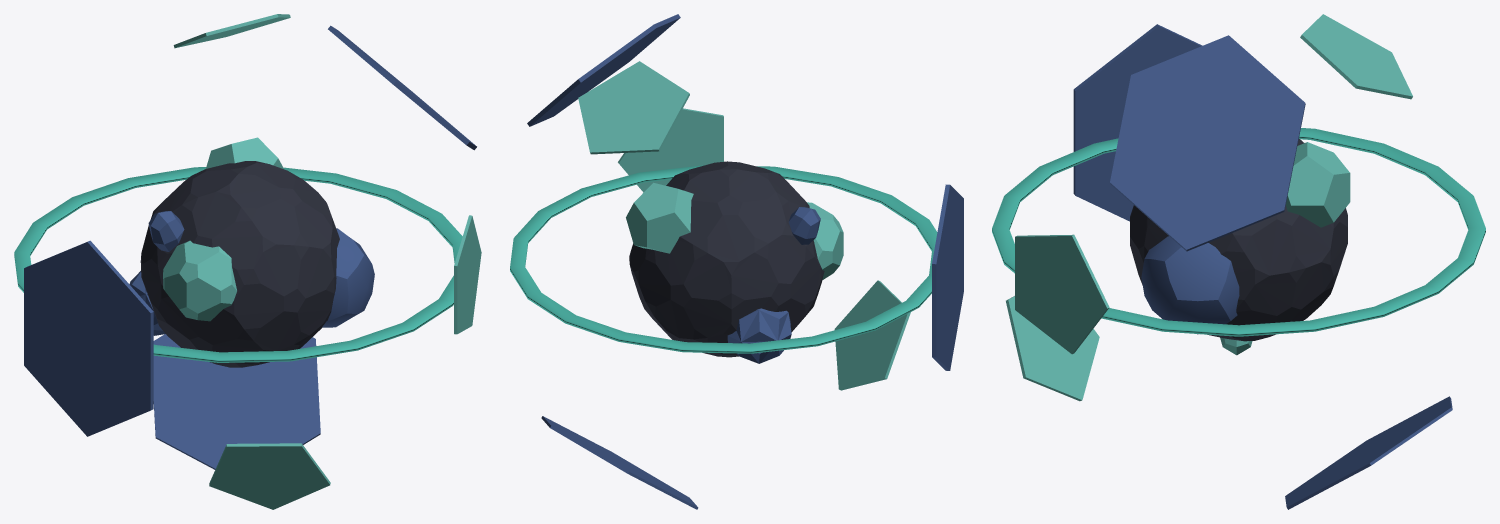
File: Defence_Enemy_01.fbx
3 views of the same model, side by side, from view 1: azimuth 30°, elevation 25°; view 2: azimuth 150°, elevation 25°; view 3: azimuth 270°, elevation 25° (orthographic). The views are drawn at different scales.
Visible parts, largest first — view 1: pPlatonic6, pCylinder8, pCylinder3, pCylinder2, pCylinder6, pPlatonic2, pPlatonic3, pCylinder7, pPlatonic1, pCylinder1, pPlatonic4, pCylinder5; view 2: pPlatonic6, pCylinder2, pCylinder5, pCylinder8, pCylinder6, pCylinder7, pPlatonic1, pCylinder1, pPlatonic5, pCylinder3, pPlatonic2, pPlatonic4; view 3: pCylinder1, pPlatonic6, pCylinder2, pCylinder8, pCylinder7, pPlatonic3, pCylinder5, pCylinder6, pPlatonic1, pCylinder3.
Part boxes in pixels (x1,y1,x2,y2): pPlatonic6: [140, 161, 339, 367]; pCylinder8: [24, 240, 153, 436]; pCylinder3: [153, 334, 320, 469]; pCylinder2: [14, 167, 462, 362]; pCylinder6: [209, 443, 330, 509]; pPlatonic2: [163, 240, 236, 321]; pPlatonic3: [322, 228, 374, 327]; pCylinder7: [454, 215, 481, 334]; pPlatonic1: [206, 137, 283, 168]; pCylinder1: [328, 25, 476, 150]; pPlatonic4: [148, 211, 184, 251]; pCylinder5: [173, 14, 290, 48]; pPlatonic6: [629, 161, 824, 357]; pCylinder2: [510, 165, 937, 353]; pCylinder5: [578, 61, 689, 154]; pCylinder8: [932, 184, 963, 370]; pCylinder6: [834, 280, 910, 390]; pCylinder7: [618, 108, 723, 192]; pPlatonic1: [626, 182, 693, 253]; pCylinder1: [527, 14, 680, 126]; pPlatonic5: [727, 308, 791, 363]; pCylinder3: [541, 416, 698, 509]; pPlatonic2: [807, 202, 843, 280]; pPlatonic4: [788, 207, 820, 244]; pCylinder1: [1110, 35, 1305, 251]; pPlatonic6: [1130, 139, 1347, 341]; pCylinder2: [992, 128, 1485, 336]; pCylinder8: [1073, 24, 1202, 221]; pCylinder7: [1015, 234, 1109, 354]; pPlatonic3: [1141, 236, 1239, 334]; pCylinder5: [1300, 14, 1412, 99]; pCylinder6: [1006, 296, 1099, 401]; pPlatonic1: [1286, 142, 1350, 227]; pCylinder3: [1285, 396, 1452, 509].
Bounding box in the file's own units: 215 × 222 × 200.
